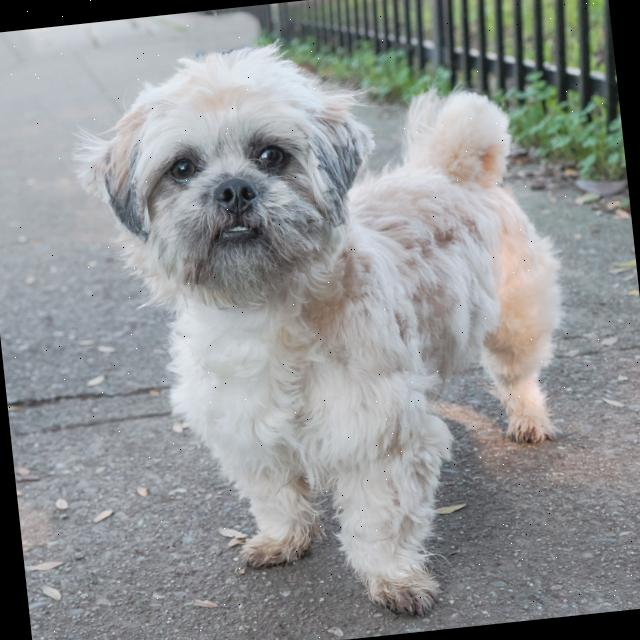shih_tzu_dog: (69, 21, 399, 342)
